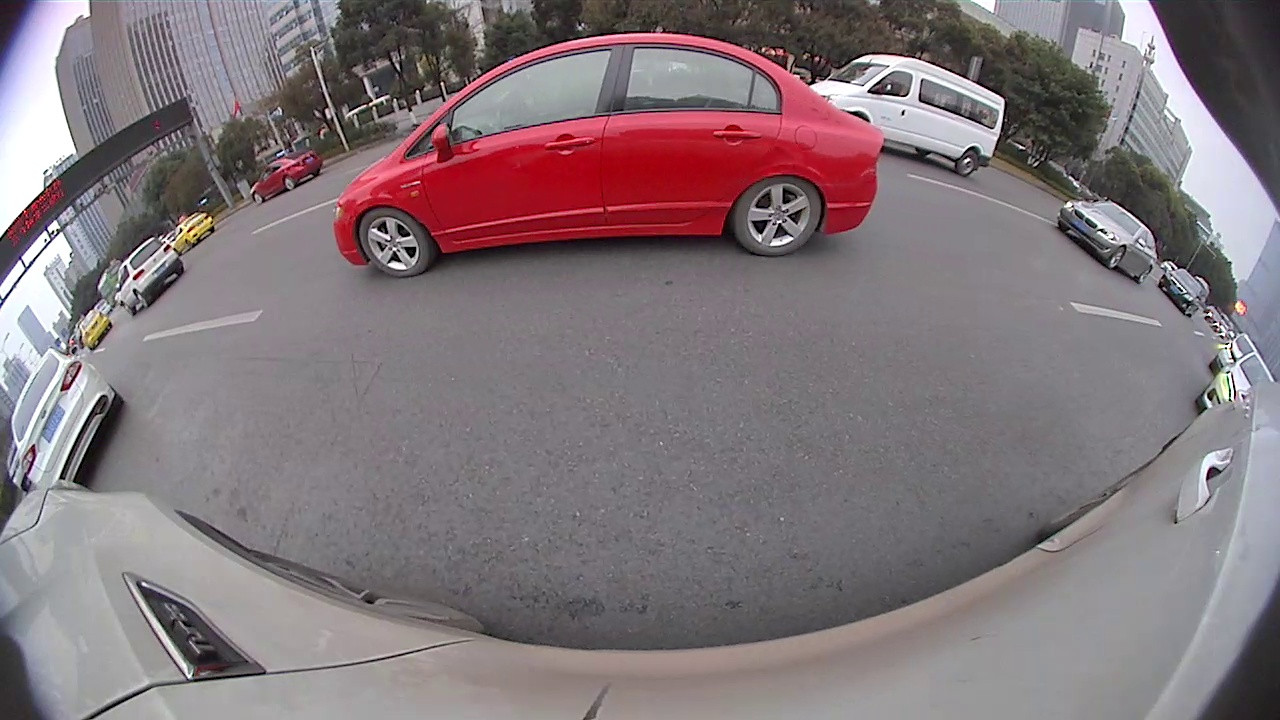car: (334, 33, 883, 280), (811, 58, 1002, 173), (11, 348, 124, 496), (1059, 203, 1157, 283), (114, 238, 183, 314), (1200, 353, 1276, 412), (249, 147, 321, 205), (174, 213, 217, 245)
front: (355, 206, 430, 279), (1108, 244, 1127, 268), (252, 192, 263, 205)
rear: (737, 175, 823, 257), (955, 150, 979, 178), (1140, 264, 1154, 283), (283, 175, 297, 191)
